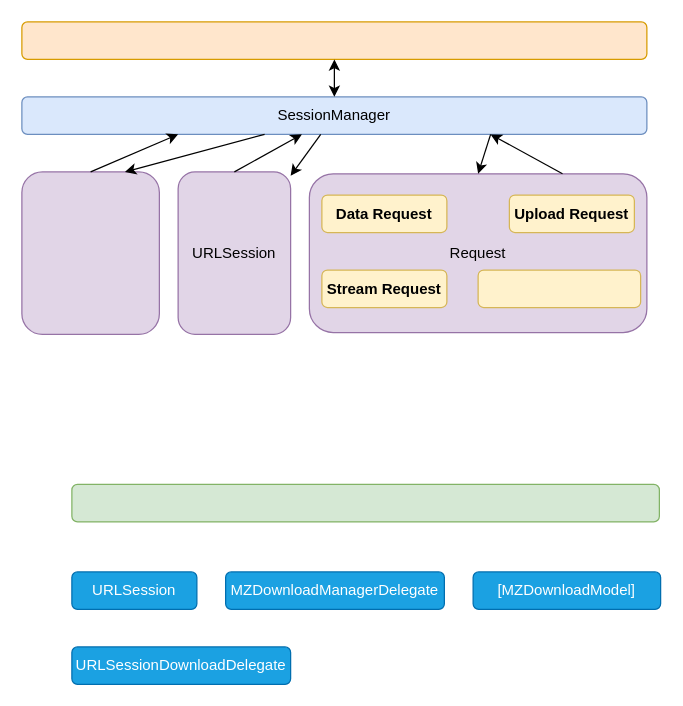
This 683x706 diagram has some shape labels left out. Each missing label, with the box of its shape:
AlamoFire: (21, 21, 647, 59)
Download Request: (477, 269, 641, 308)
MZDownloadManager: (71, 483, 659, 522)
SessionDelegate: (21, 171, 159, 334)
